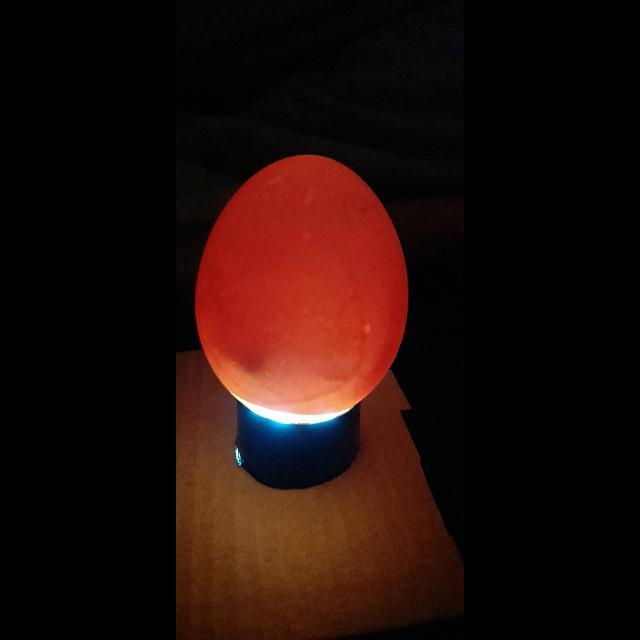Fertile: (191, 147, 421, 425)
